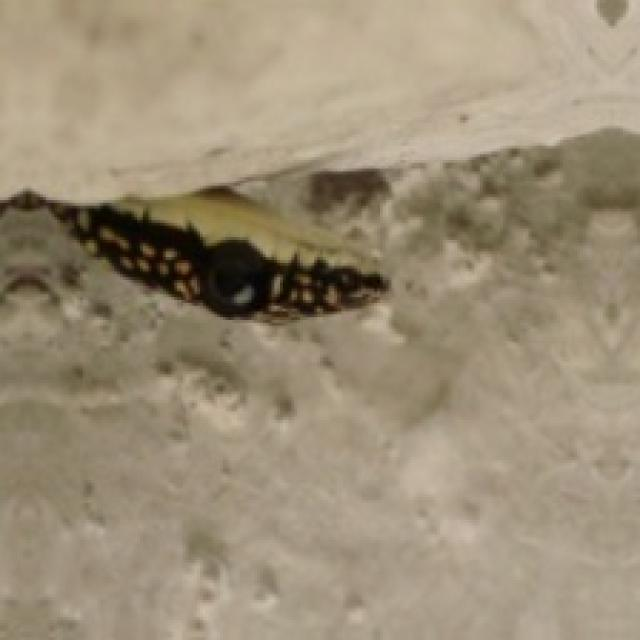paradise tree snake: (0, 186, 388, 316)
